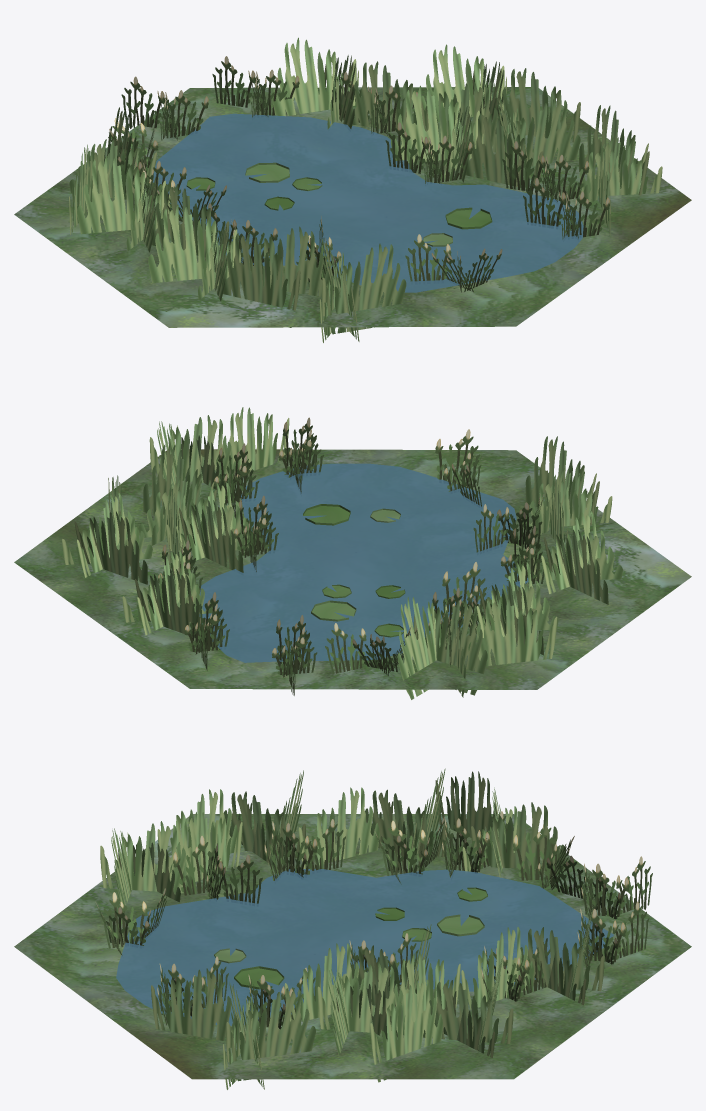
The model's file is RioPantanal.fbx.
The picture shows the model from 3 angles, top to bottom: view 1: azimuth 30°, elevation 25°; view 2: azimuth 150°, elevation 25°; view 3: azimuth 270°, elevation 25°; orthographic projection. The views are drawn at different scales.
Parts seen in each view (by area): view 1: RioPantanal; view 2: RioPantanal; view 3: RioPantanal.
Part boxes in pixels (x1=…): RioPantanal: x1=14, y1=37, x2=691, y2=342; RioPantanal: x1=14, y1=407, x2=691, y2=699; RioPantanal: x1=14, y1=768, x2=691, y2=1089.
Size of the model in its own units: 522 by 100 by 564.
